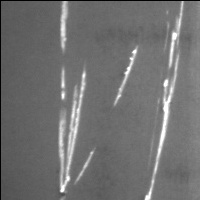scratches: (141, 1, 188, 200), (57, 56, 98, 195), (110, 43, 140, 109), (56, 1, 74, 55)
